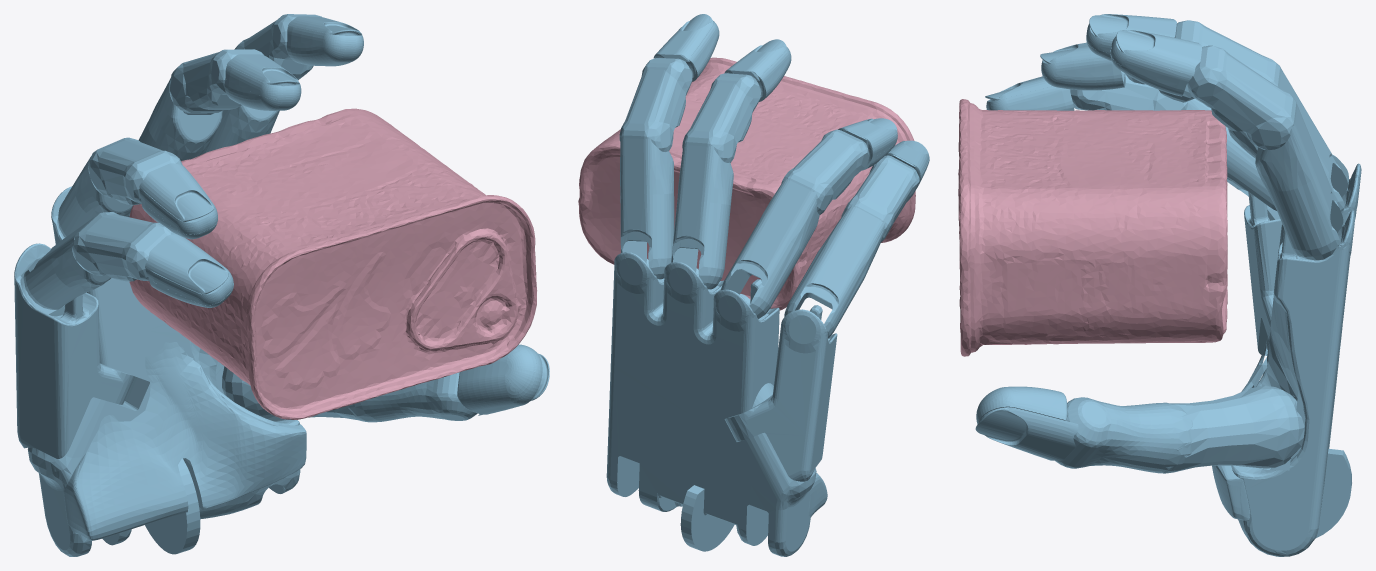
3 renders of one model, left to right at view 1: azimuth 30°, elevation 25°; view 2: azimuth 150°, elevation 25°; view 3: azimuth 270°, elevation 25°, orthographic. The views are drawn at different scales.
Parts seen in each view (by area): view 1: world, potted_meat_can.stl; view 2: world, potted_meat_can.stl; view 3: world, potted_meat_can.stl.
Part boxes in pixels (left/top/right/bottom): world: left=14, top=14, right=549, bottom=556; potted_meat_can.stl: left=129, top=108, right=537, bottom=419; world: left=606, top=14, right=929, bottom=556; potted_meat_can.stl: left=578, top=57, right=915, bottom=310; world: left=975, top=14, right=1361, bottom=556; potted_meat_can.stl: left=958, top=99, right=1227, bottom=356.
Size of the model in its own units: 0.1358 by 0.1893 by 0.125.
